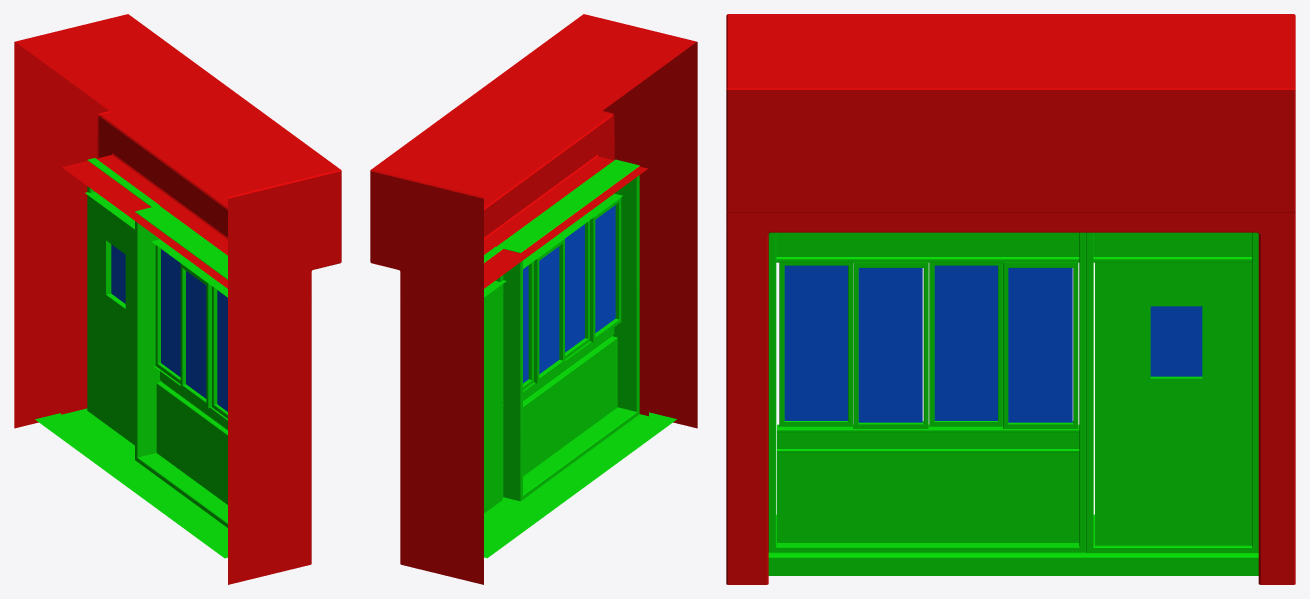
Rendered from shop_F.fbx.
3 renders of one model, left to right at view 1: azimuth 30°, elevation 25°; view 2: azimuth 150°, elevation 25°; view 3: azimuth 270°, elevation 25°, orthographic. The views are drawn at different scales.
Parts seen in each view (by area): view 1: polySurface205; view 2: polySurface205; view 3: polySurface205.
Part boxes in pixels (x1=…): polySurface205: x1=14, y1=14, x2=341, y2=584; polySurface205: x1=370, y1=14, x2=697, y2=584; polySurface205: x1=726, y1=14, x2=1295, y2=584.
Size of the model in its own units: 92.77 by 300 by 300.
